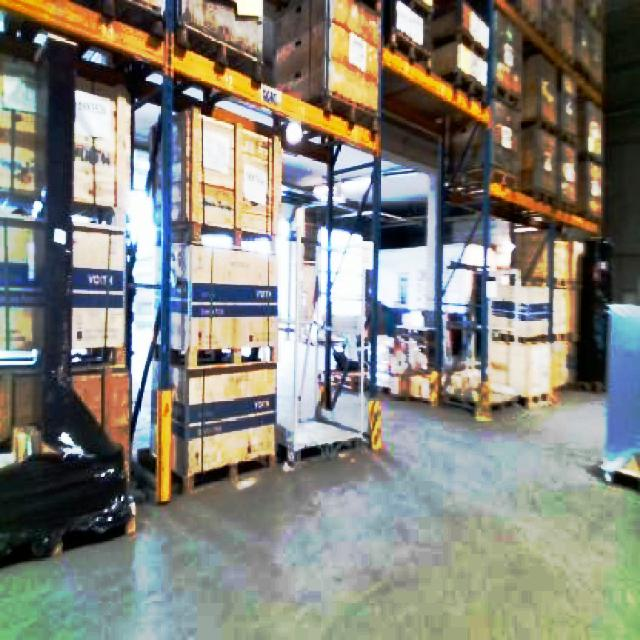ground: (0, 374, 638, 638)
pallet: (378, 0, 606, 417), (0, 63, 135, 572), (148, 105, 283, 494), (0, 366, 135, 582), (483, 229, 585, 406), (317, 363, 520, 417)
